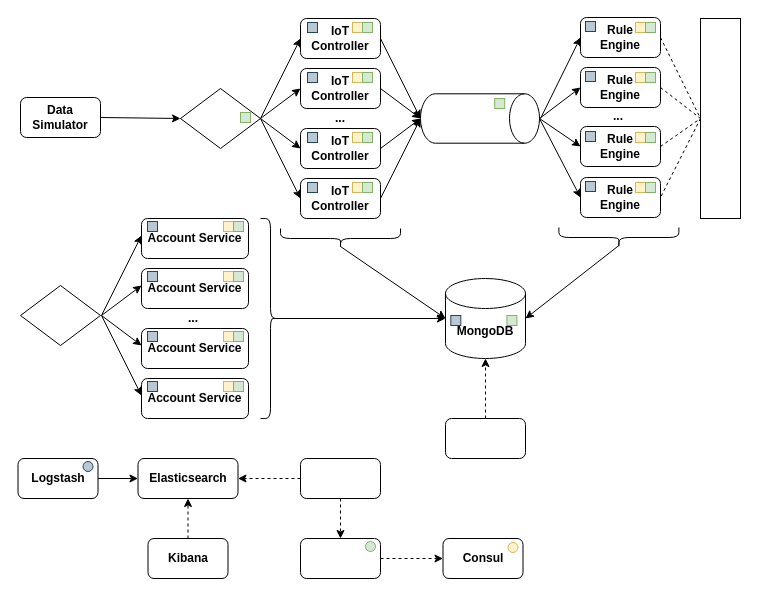
Image size: 758x596. Some labels were removed from this diagram. Each missing label, with the centre of its shape:
"EMQX" belongs at [220,118].
"Grafana" belongs at [340,478].
"Mongo Express" belongs at [485,438].
"NGINX" belongs at [60,315].
"Prometheus" belongs at [340,558].
"RabbitMQ" belongs at [480,118].
"Redis" belongs at [720,118].
